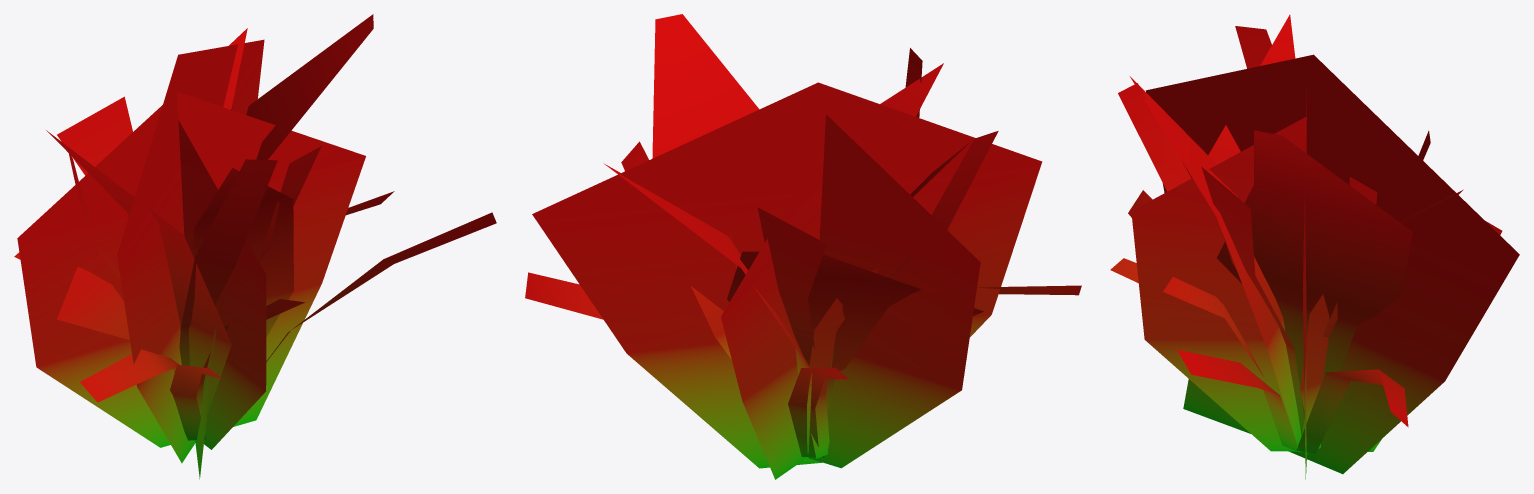
Rendered from tlijciuia_Var1_LOD0.fbx.
The picture shows the model from 3 angles, left to right: view 1: azimuth 30°, elevation 25°; view 2: azimuth 150°, elevation 25°; view 3: azimuth 270°, elevation 25°; orthographic projection. The views are drawn at different scales.
Visible parts, largest first — view 1: _eb1d_Var1_LOD0; view 2: _eb1d_Var1_LOD0; view 3: _eb1d_Var1_LOD0.
Part boxes in pixels (bbox=[...]): _eb1d_Var1_LOD0: bbox=[14, 14, 496, 479]; _eb1d_Var1_LOD0: bbox=[525, 14, 1081, 479]; _eb1d_Var1_LOD0: bbox=[1110, 14, 1519, 479].
Size of the model in its own units: 15.58 by 13.49 by 12.31.
